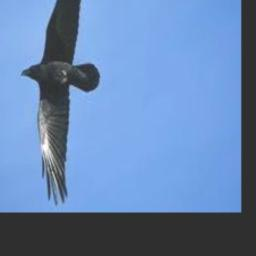Crow: (20, 0, 101, 204)
